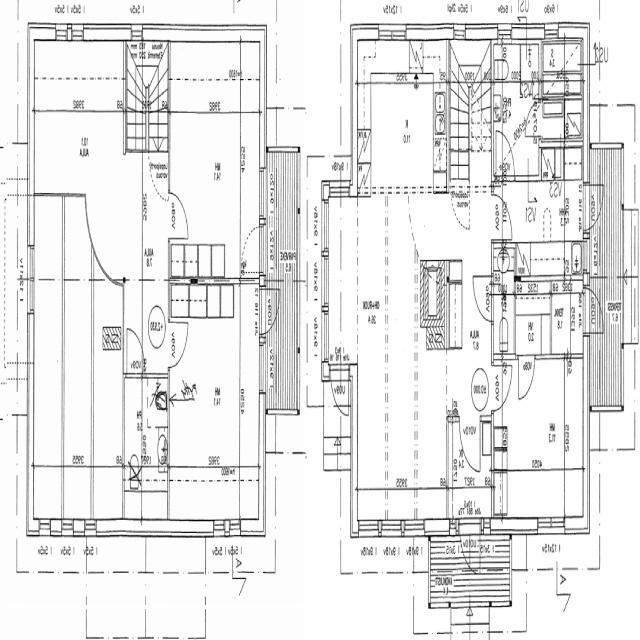door: (460, 516, 480, 586), (460, 416, 480, 474), (583, 186, 608, 230), (583, 290, 608, 334), (259, 290, 284, 334), (331, 364, 348, 427), (473, 276, 494, 322), (491, 195, 512, 240), (496, 130, 514, 182), (491, 366, 512, 410), (168, 323, 188, 368), (127, 330, 145, 379), (168, 194, 188, 238), (519, 354, 535, 398), (526, 103, 542, 137)
